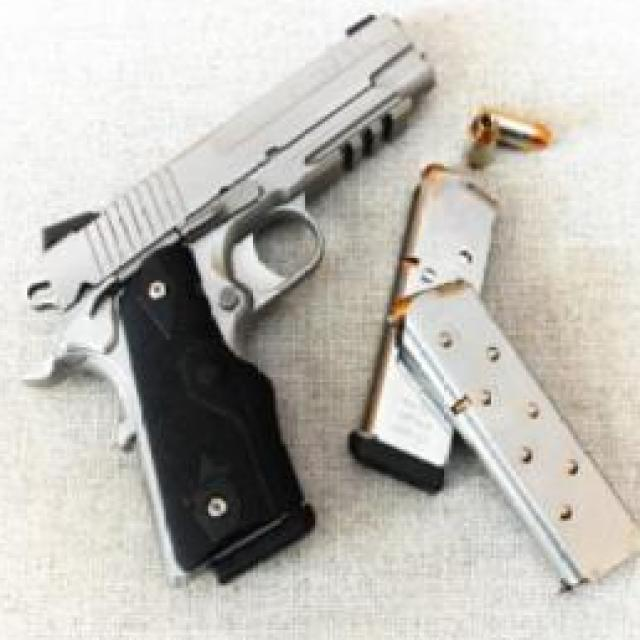pistol: (19, 15, 444, 589)
